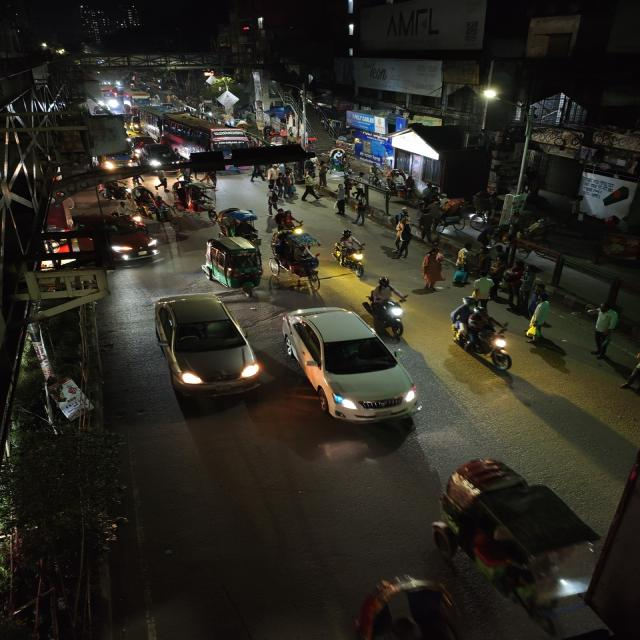bus: (158, 113, 251, 157), (125, 91, 151, 108)
car: (271, 302, 425, 428), (142, 290, 266, 406), (99, 219, 162, 264), (140, 144, 182, 168)
cng: (199, 235, 267, 293)
motorcycle: (452, 306, 518, 374), (364, 278, 410, 332), (331, 230, 372, 278)
pedestrian: (586, 304, 626, 360), (524, 298, 558, 342), (419, 248, 447, 292), (502, 263, 528, 307), (450, 242, 474, 288), (392, 222, 420, 260), (469, 273, 495, 309), (300, 166, 323, 204), (416, 208, 439, 245), (272, 207, 298, 233), (350, 198, 372, 228), (331, 188, 351, 218), (264, 186, 283, 214), (283, 168, 298, 200), (318, 161, 331, 188), (250, 164, 265, 184)
pickup_van: (100, 149, 138, 171)
rickshaw: (270, 229, 325, 293), (204, 204, 264, 243), (169, 179, 218, 219), (128, 187, 170, 219)
